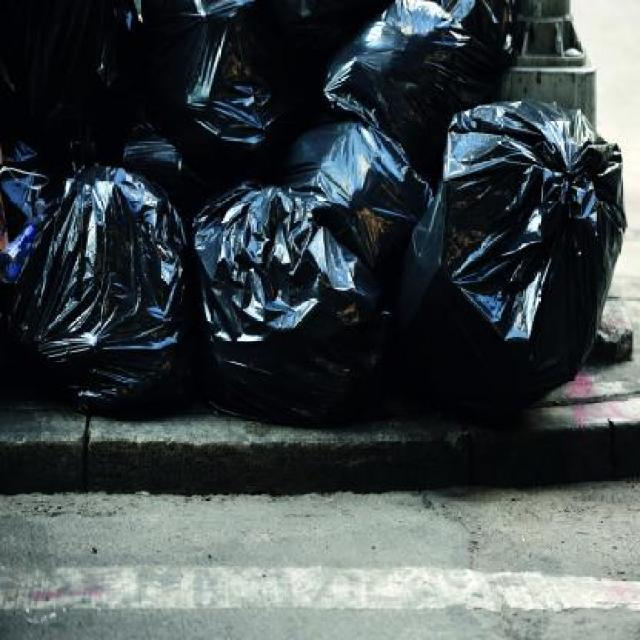garbage: (5, 5, 611, 404)
